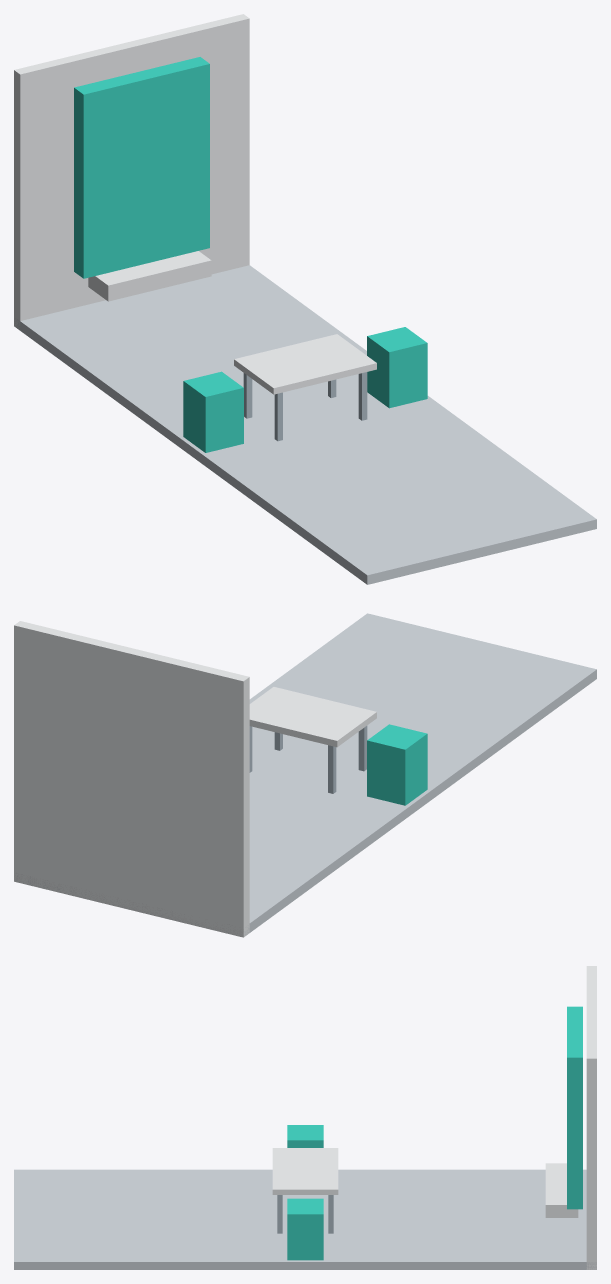
3 views of the same model, one above another, from view 1: azimuth 30°, elevation 25°; view 2: azimuth 150°, elevation 25°; view 3: azimuth 270°, elevation 25° (orthographic). The views are drawn at different scales.
Parts seen in each view (by area): view 1: Exhibition Booth Concept; view 2: Exhibition Booth Concept; view 3: Exhibition Booth Concept.
Part boxes in pixels (box(x1,y1,x2,y2)): Exhibition Booth Concept: box(14, 14, 596, 584); Exhibition Booth Concept: box(14, 613, 596, 937); Exhibition Booth Concept: box(14, 966, 596, 1269).
Bounding box in the file's own units: 3 × 3.2 × 8.
